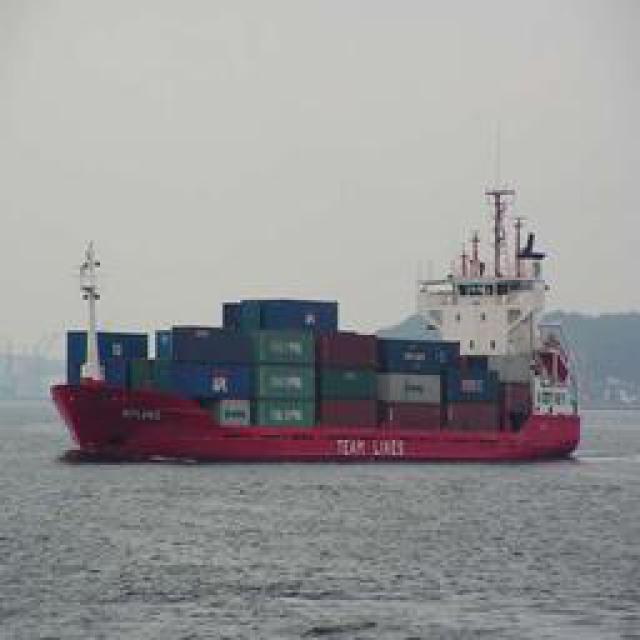Ship: (53, 229, 588, 462)
